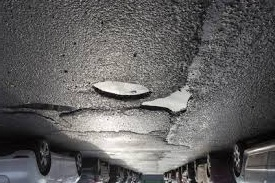pothole: (142, 83, 198, 117), (93, 79, 152, 98)
